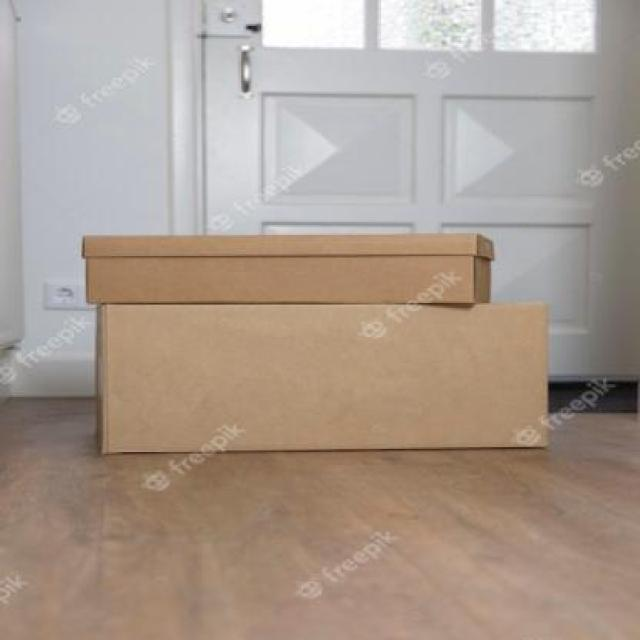box: (72, 302, 580, 472), (75, 214, 523, 314)
